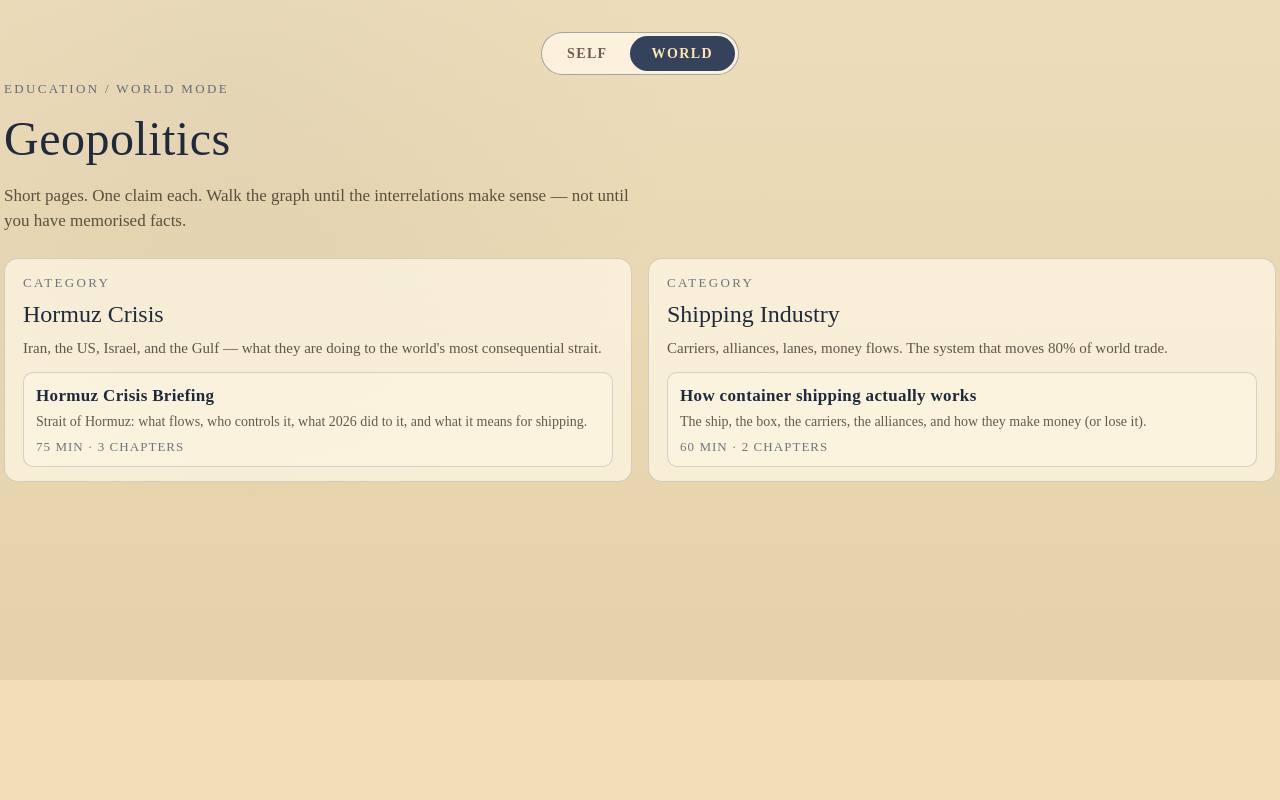
it: GeopoliticsWorld › opens the first page of the Hormuz briefing when the program is clicked
The width and height of the screenshot is (1280, 800).
Click the button with test id "open-program-hormuz-briefing". click: x=318, y=419
box: [23,372,613,467]
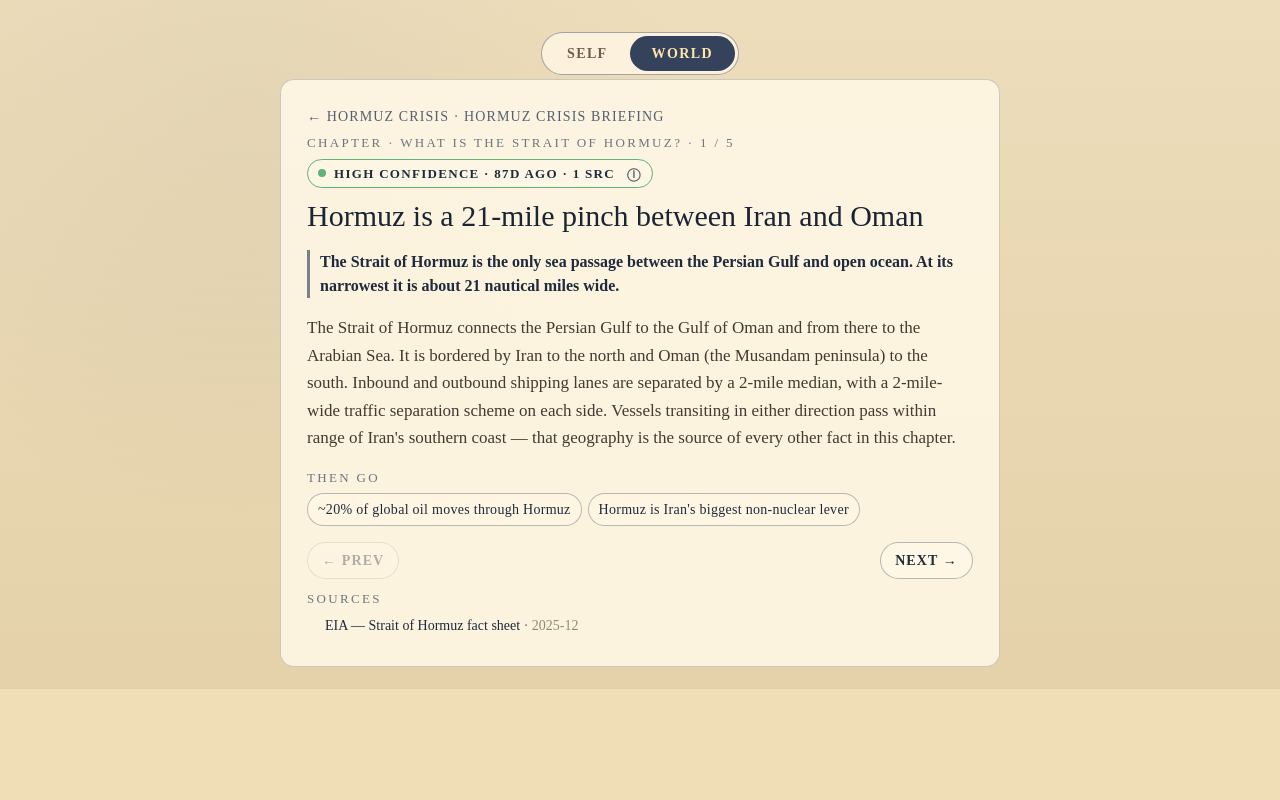
Expected: the heading "Hormuz is a 21-mile pinch between Iran and Oman" is shown, [307,198,973,234]
Expected: the button with test id "trust-badge-trigger" shows "HIGH", [307,158,652,188]
Expected: the text with test id "page-bluf" shows "only sea passage", [320,253,953,294]
